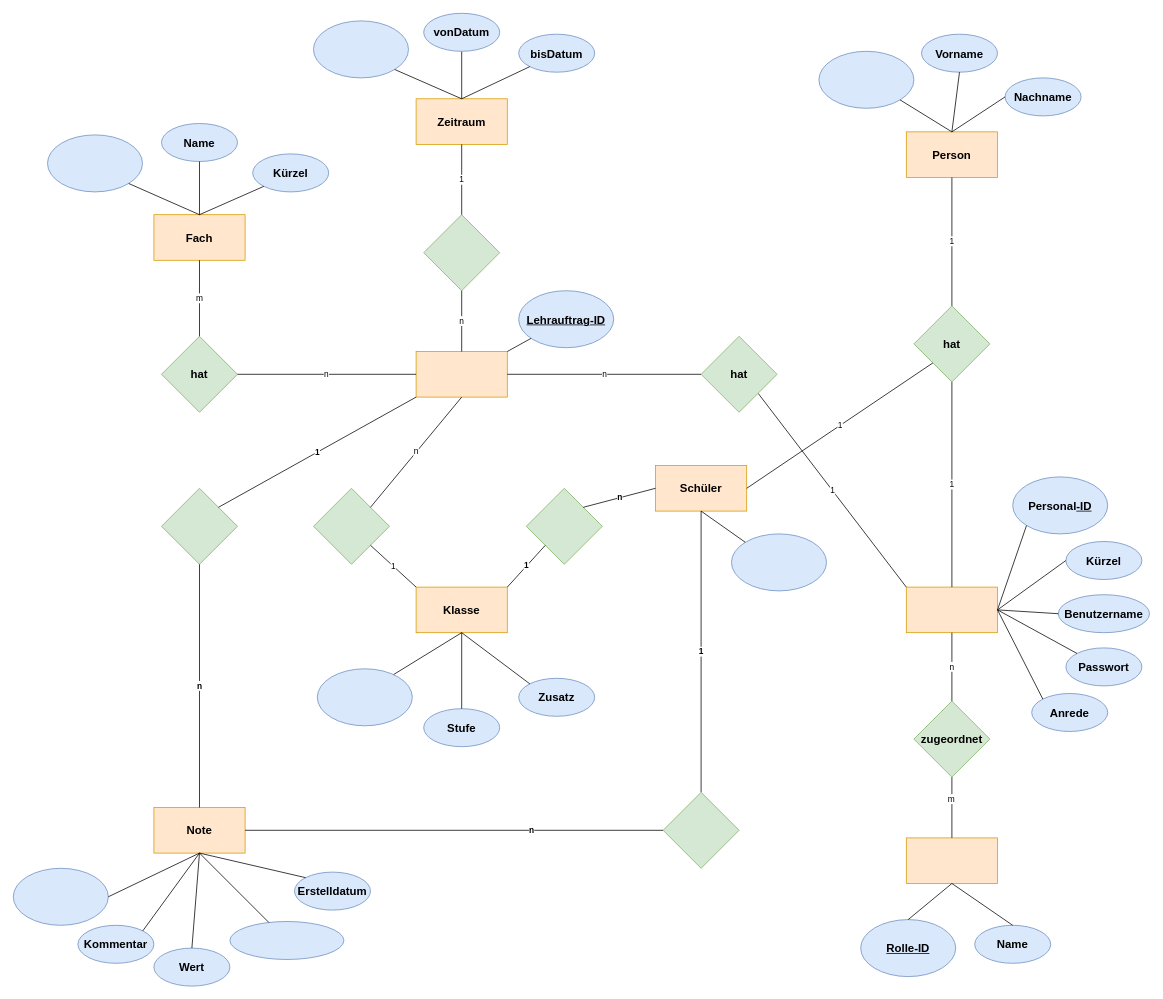
Some shapes in this 1163 by 999 pixel diagram are drawn without their labels. The centre of each missing label's shape, as x and y in pixels:
bekommt: [700,830]
besitzt: [461,252]
besuchen: [564,526]
bezieht: [351,526]
Fach-ID: [94,163]
Klasse-ID: [364,697]
Lehrauftrag: [461,374]
Note-ID: [60,896]
Person-ID: [866,79]
Personal: [952,609]
Rolle: [952,860]
Schüler-ID: [778,562]
vergibt: [199,526]
Zeitraum -ID: [360,49]
Änderungsdatum: [286,940]
